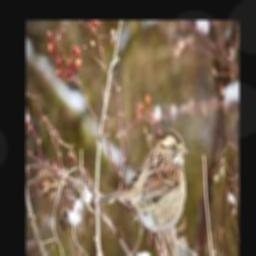Sparrow: (99, 130, 190, 248)
